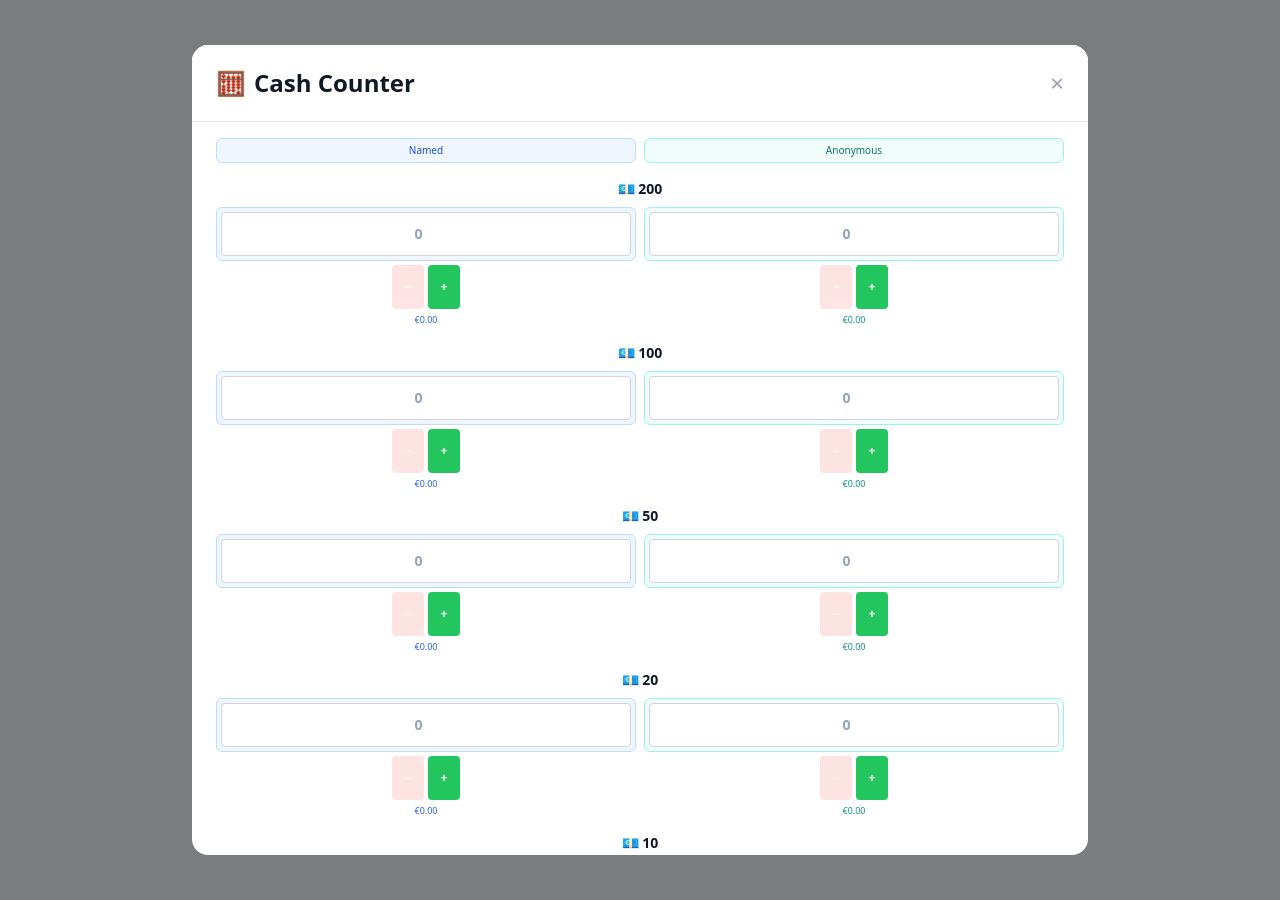
CashCounterModal - Simplified Implementation (SPEC-UI-003) › Real-time Total Calculation › should calculate grand total as sum of anonymous and named
Expected: the text "💶 100" is shown, [618,342,662,362]
Expected: the 3rd number field with placeholder "0" is shown, [221,376,631,420]
Type "1" into the 4th number field with placeholder "0".
click(854, 398); type("1")  # box [649,376,1059,420]
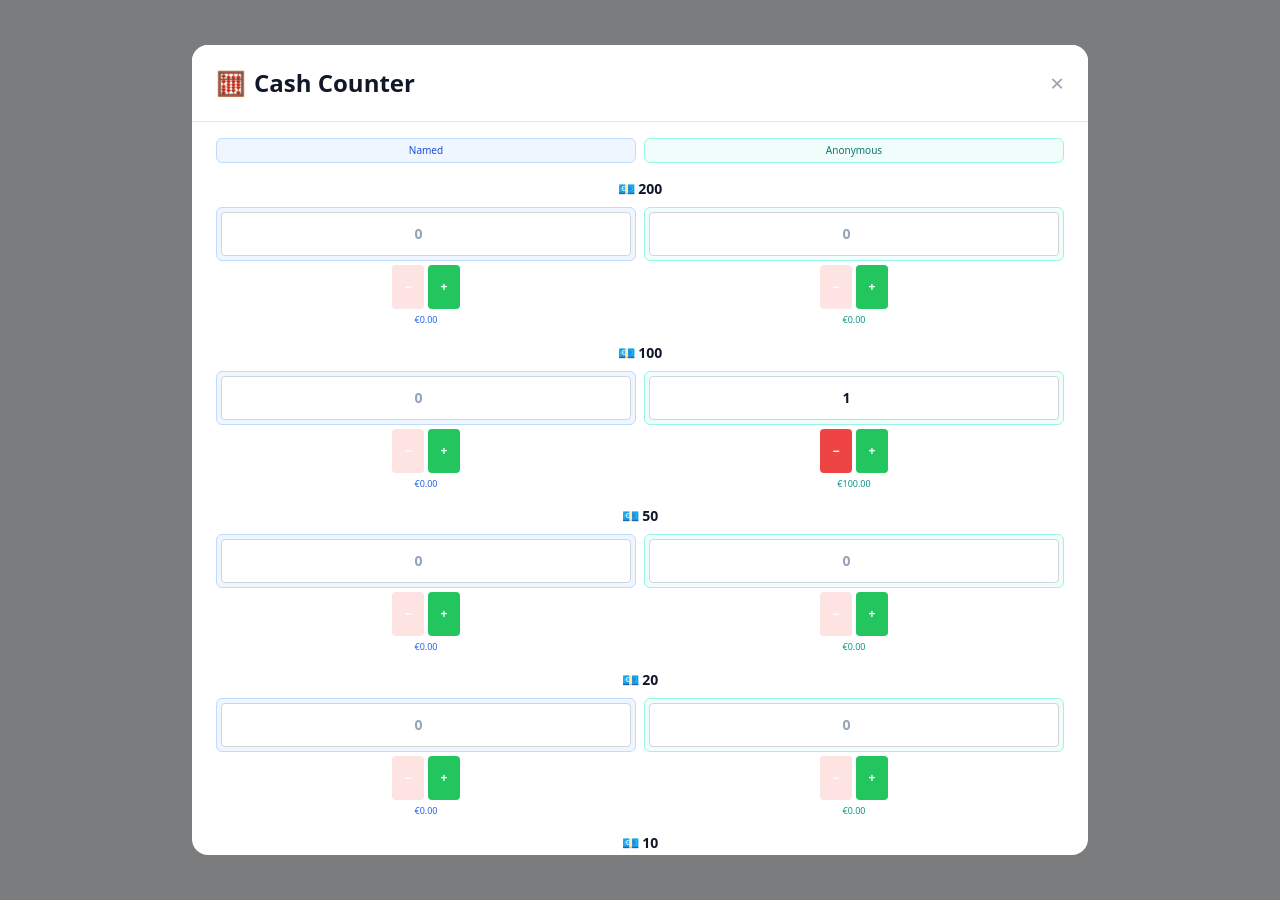
Type "1" into the 3rd number field with placeholder "0".
click(426, 398); type("1")  # box [221,376,631,420]
Wait 500 ms
(page scrolled)
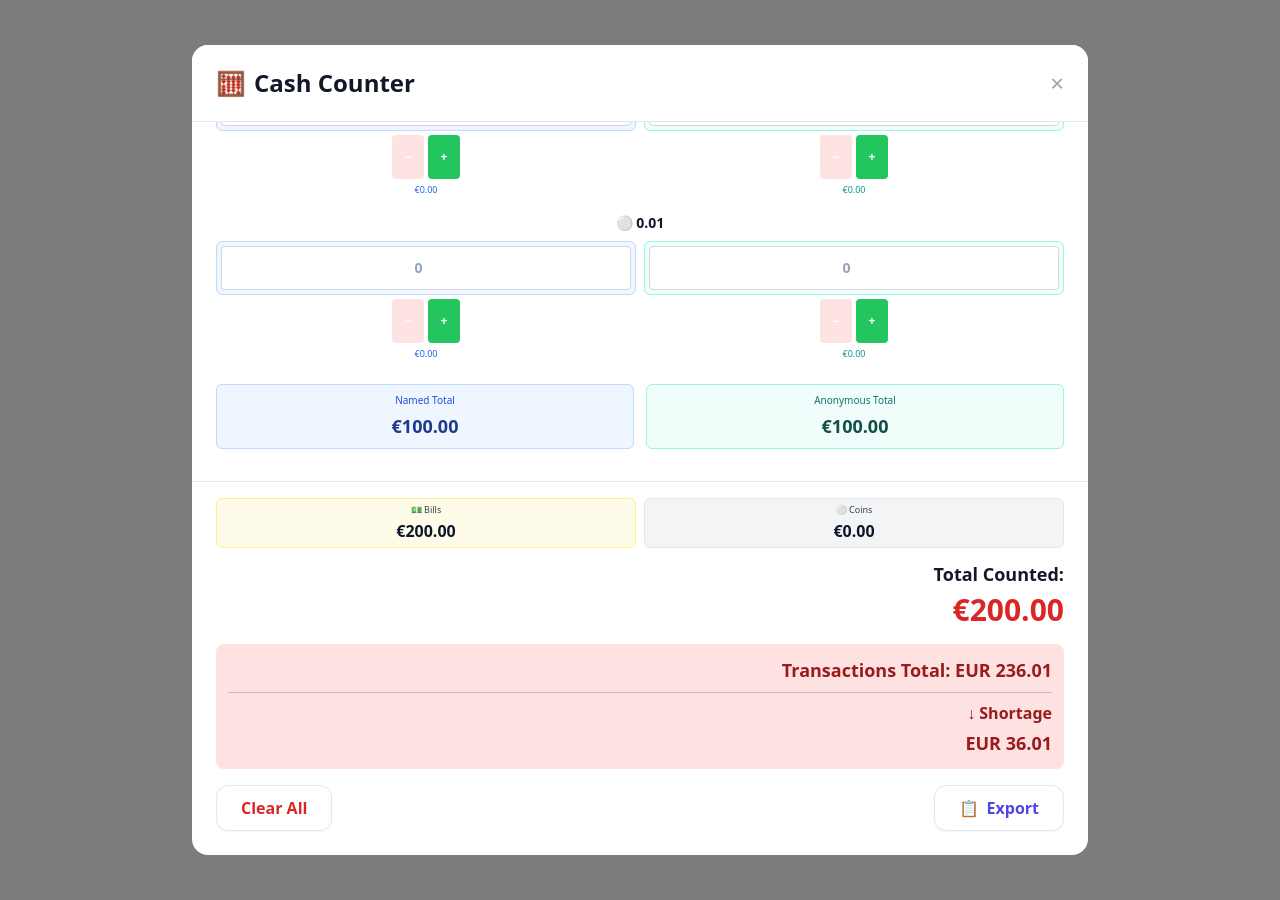
Expected: the text "€200.00" below "Total Counted" is shown, [952,588,1064,630]
